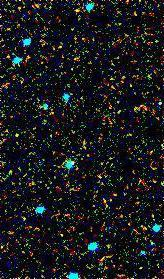star: (0, 118, 28, 148)
